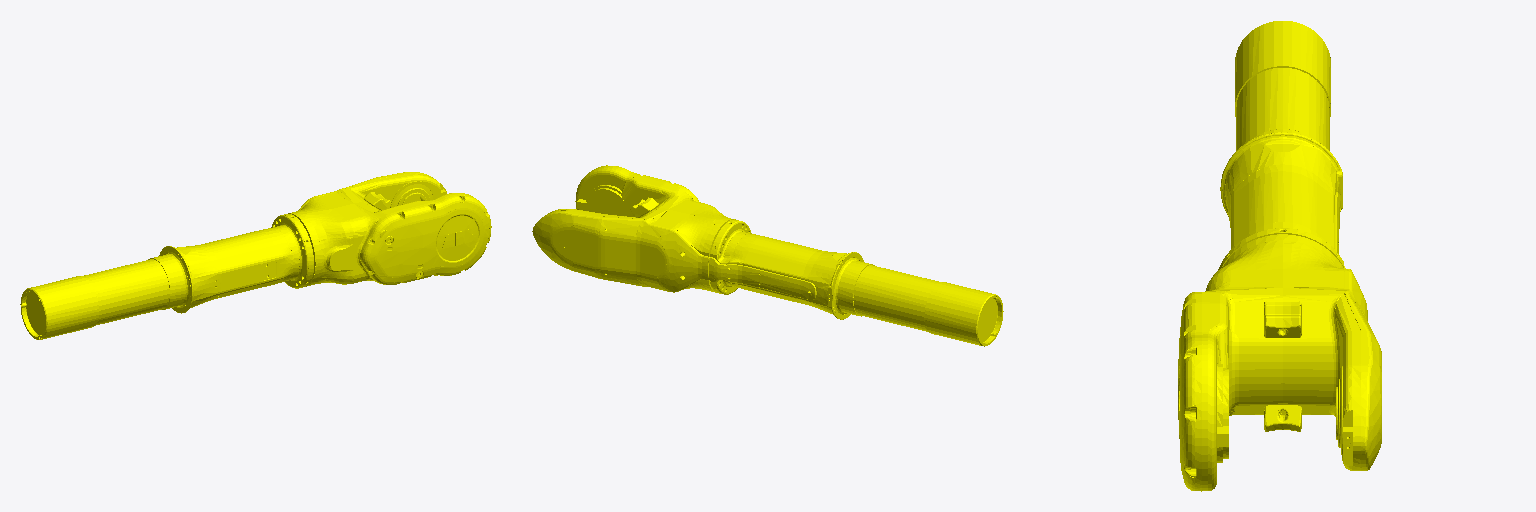
URDF robot description (abb_irb6640_185_280):
<?xml version="1.0" encoding="utf-8"?>
<!-- =================================================================================== -->
<!-- |    This document was autogenerated by xacro from irb6640_185_280.xacro          | -->
<!-- |    EDITING THIS FILE BY HAND IS NOT RECOMMENDED                                 | -->
<!-- =================================================================================== -->
<robot name="abb_irb6640_185_280">
  <!-- link list -->
  <link name="base_link">
    <collision name="collision">
      <geometry>
        <mesh filename="package://abb_irb6640_support/meshes/irb6640/collision/base_link.stl"/>
      </geometry>
    </collision>
    <visual name="visual">
      <geometry>
        <mesh filename="package://abb_irb6640_support/meshes/irb6640/visual/base_link.dae"/>
      </geometry>
      <material name="yellow">
        <color rgba="1 1 0 1"/>
      </material>
    </visual>
  </link>
  <link name="link_1">
    <collision name="collision">
      <geometry>
        <mesh filename="package://abb_irb6640_support/meshes/irb6640/collision/link_1.stl"/>
      </geometry>
    </collision>
    <visual name="visual">
      <geometry>
        <mesh filename="package://abb_irb6640_support/meshes/irb6640/visual/link_1.dae"/>
      </geometry>
      <material name="yellow"/>
    </visual>
  </link>
  <link name="link_2">
    <collision name="collision">
      <geometry>
        <mesh filename="package://abb_irb6640_support/meshes/irb6640/collision/link_2.stl"/>
      </geometry>
    </collision>
    <visual name="visual">
      <geometry>
        <mesh filename="package://abb_irb6640_support/meshes/irb6640/visual/link_2.dae"/>
      </geometry>
      <material name="yellow"/>
    </visual>
  </link>
  <link name="link_3">
    <collision name="collision">
      <geometry>
        <mesh filename="package://abb_irb6640_support/meshes/irb6640/collision/link_3.stl"/>
      </geometry>
    </collision>
    <visual name="visual">
      <geometry>
        <mesh filename="package://abb_irb6640_support/meshes/irb6640/visual/link_3.dae"/>
      </geometry>
      <material name="yellow"/>
    </visual>
  </link>
  <link name="link_4">
    <collision name="collision">
      <geometry>
        <mesh filename="package://abb_irb6640_support/meshes/irb6640_185_280/collision/link_4.stl"/>
      </geometry>
    </collision>
    <visual name="visual">
      <geometry>
        <mesh filename="package://abb_irb6640_support/meshes/irb6640_185_280/visual/link_4.dae"/>
      </geometry>
      <material name="yellow"/>
    </visual>
  </link>
  <link name="link_5">
    <collision name="collision">
      <geometry>
        <mesh filename="package://abb_irb6640_support/meshes/irb6640/collision/link_5.stl"/>
      </geometry>
    </collision>
    <visual name="visual">
      <geometry>
        <mesh filename="package://abb_irb6640_support/meshes/irb6640/visual/link_5.dae"/>
      </geometry>
      <material name="yellow"/>
    </visual>
  </link>
  <link name="link_6">
    <collision name="collision">
      <geometry>
        <mesh filename="package://abb_irb6640_support/meshes/irb6640/collision/link_6.stl"/>
      </geometry>
    </collision>
    <visual name="visual">
      <geometry>
        <mesh filename="package://abb_irb6640_support/meshes/irb6640/visual/link_6.dae"/>
      </geometry>
      <material name="yellow"/>
    </visual>
  </link>
  <link name="tool0"/>
  <!--Cylinder and piston -->
  <link name="link_cylinder">
    <collision name="collision">
      <geometry>
        <mesh filename="package://abb_irb6640_support/meshes/irb6640/collision/cylinder_link.stl"/>
      </geometry>
    </collision>
    <visual name="visual">
      <geometry>
        <mesh filename="package://abb_irb6640_support/meshes/irb6640/visual/cylinder_link.dae"/>
      </geometry>
      <material name="yellow"/>
    </visual>
  </link>
  <link name="link_piston">
    <collision name="collision">
      <geometry>
        <mesh filename="package://abb_irb6640_support/meshes/irb6640/collision/piston_link.stl"/>
      </geometry>
    </collision>
    <visual name="visual">
      <geometry>
        <mesh filename="package://abb_irb6640_support/meshes/irb6640/visual/piston_link.dae"/>
      </geometry>
      <material name="yellow"/>
    </visual>
  </link>
  <!-- end of link list -->
  <!-- joint list -->
  <joint name="joint_1" type="revolute">
    <origin rpy="0 0 0" xyz="0 0 0.780"/>
    <axis xyz="0 0 1"/>
    <parent link="base_link"/>
    <child link="link_1"/>
    <limit effort="0" lower="-2.967" upper="2.967" velocity="1.7453"/>
  </joint>
  <joint name="joint_2" type="revolute">
    <origin rpy="0 0 0" xyz="0.320 0 0"/>
    <axis xyz="0 1 0"/>
    <parent link="link_1"/>
    <child link="link_2"/>
    <limit effort="0" lower="-1.134" upper="1.4855" velocity="1.5707"/>
  </joint>
  <joint name="joint_3" type="revolute">
    <origin rpy="0 0 0" xyz="0 0 1.075"/>
    <axis xyz="0 1 0"/>
    <parent link="link_2"/>
    <child link="link_3"/>
    <limit effort="0" lower="-3.142" upper="1.222" velocity="1.5707"/>
  </joint>
  <joint name="joint_4" type="revolute">
    <origin rpy="0 0 0" xyz="0 0 0.2"/>
    <axis xyz="1 0 0"/>
    <parent link="link_3"/>
    <child link="link_4"/>
    <limit effort="0" lower="-5.236" upper="5.236" velocity="2.9671"/>
  </joint>
  <joint name="joint_5" type="revolute">
    <origin rpy="0 0 0" xyz="1.392 0 0 "/>
    <axis xyz="0 1 0"/>
    <parent link="link_4"/>
    <child link="link_5"/>
    <limit effort="0" lower="-2.094" upper="2.094" velocity="2.4435"/>
  </joint>
  <joint name="joint_6" type="revolute">
    <origin rpy="0 0 0" xyz="0.2 0 0 "/>
    <axis xyz="1 0 0"/>
    <parent link="link_5"/>
    <child link="link_6"/>
    <limit effort="0" lower="-6.283" upper="6.283" velocity="3.3161"/>
  </joint>
  <joint name="joint_6-tool0" type="fixed">
    <parent link="link_6"/>
    <child link="tool0"/>
    <origin rpy="0 1.57079632679 0" xyz="0 0 0"/>
  </joint>
  <joint name="joint_cylinder" type="continuous">
    <origin rpy="0 0 0" xyz="-0.3647 0 -0.1455"/>
    <axis xyz="0 1 0"/>
    <parent link="link_1"/>
    <child link="link_cylinder"/>
    <mimic joint="joint_2" multiplier="-0.25"/>
  </joint>
  <joint name="joint_piston" type="continuous">
    <origin rpy="0 0 0" xyz="-0.22 0 -0.0672"/>
    <axis xyz="0 1 0"/>
    <parent link="link_2"/>
    <child link="link_piston"/>
    <mimic joint="joint_2" multiplier="-1.25"/>
  </joint>
  <!-- end of joint list -->
  <!-- ROS base_link to ABB World Coordinates transform -->
  <link name="base"/>
  <joint name="base_link-base" type="fixed">
    <origin rpy="0 0 0" xyz="0 0 0"/>
    <parent link="base_link"/>
    <child link="base"/>
  </joint>
</robot>

--- Facts derived from the render (not from the file) ---
The picture shows the robot from 3 angles, left to right: view 1: azimuth 30°, elevation 25°; view 2: azimuth 150°, elevation 25°; view 3: azimuth 270°, elevation 25°; orthographic projection.
Robot: abb_irb6640_185_280 — 11 links, 10 joints (6 revolute, 2 continuous, 2 fixed); root link base_link; default pose: every joint at zero.
Links seen in each view (by area): view 1: link_4; view 2: link_4; view 3: link_4.
Boxes of the visible links, bbox=[...] form: link_4: bbox=[20, 172, 491, 339]; link_4: bbox=[532, 165, 1003, 346]; link_4: bbox=[1178, 21, 1381, 491].
Bounding box of the posed robot: 1.55 × 0.35 × 0.2677 m (x, y, z).
1 mesh visuals loaded from 9 distinct referenced files (1 Collada DAE); not drawn: 8 (reference not matched to a file when rendering).